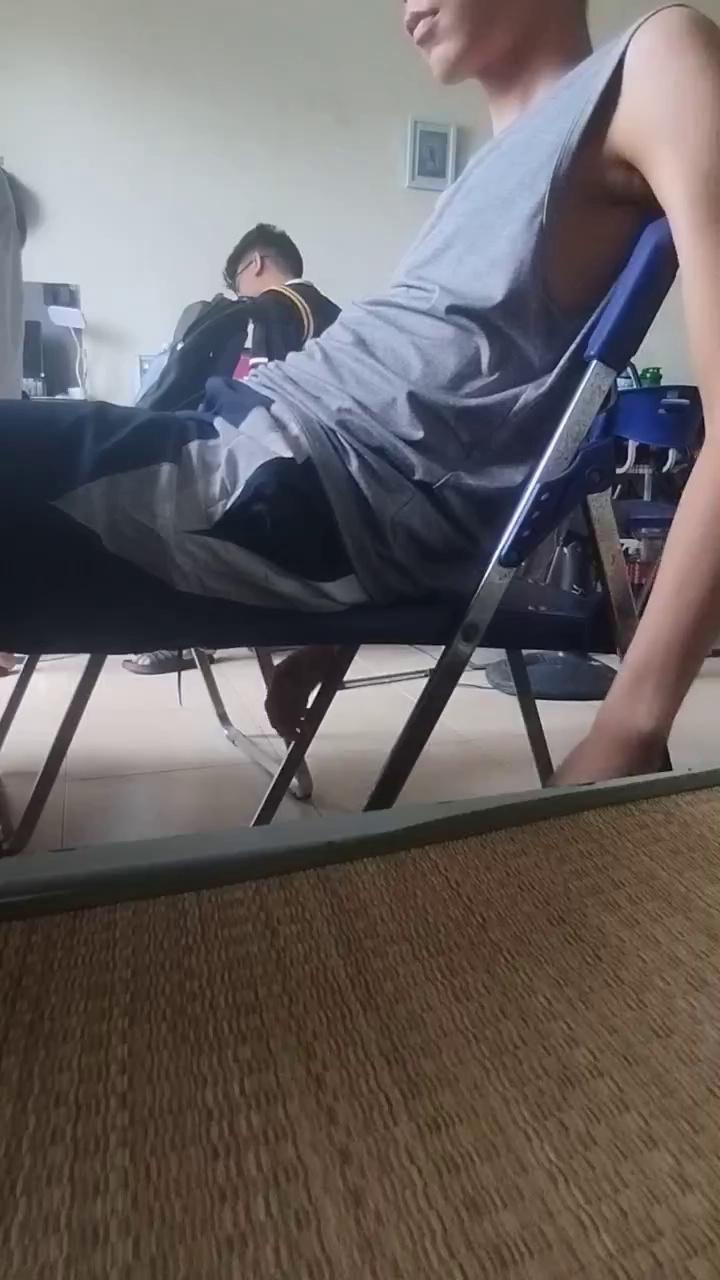BadPosture: (0, 0, 719, 781)
